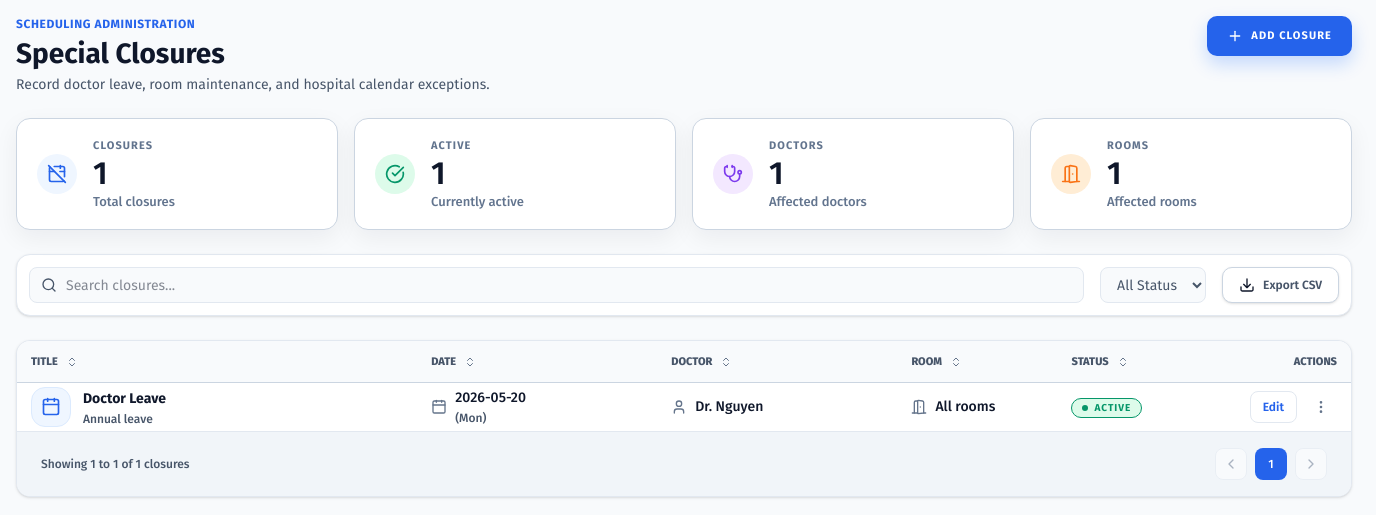
Scenario: AdminSpecialClosuresPage › filters closures by search text
This screenshot has width=1376, height=515.
Expected: the text "Doctor Leave" is shown, [83, 390, 166, 407]
Type "maintenance" into the search field named "search special closures" at (557, 285), box [29, 267, 1084, 303]
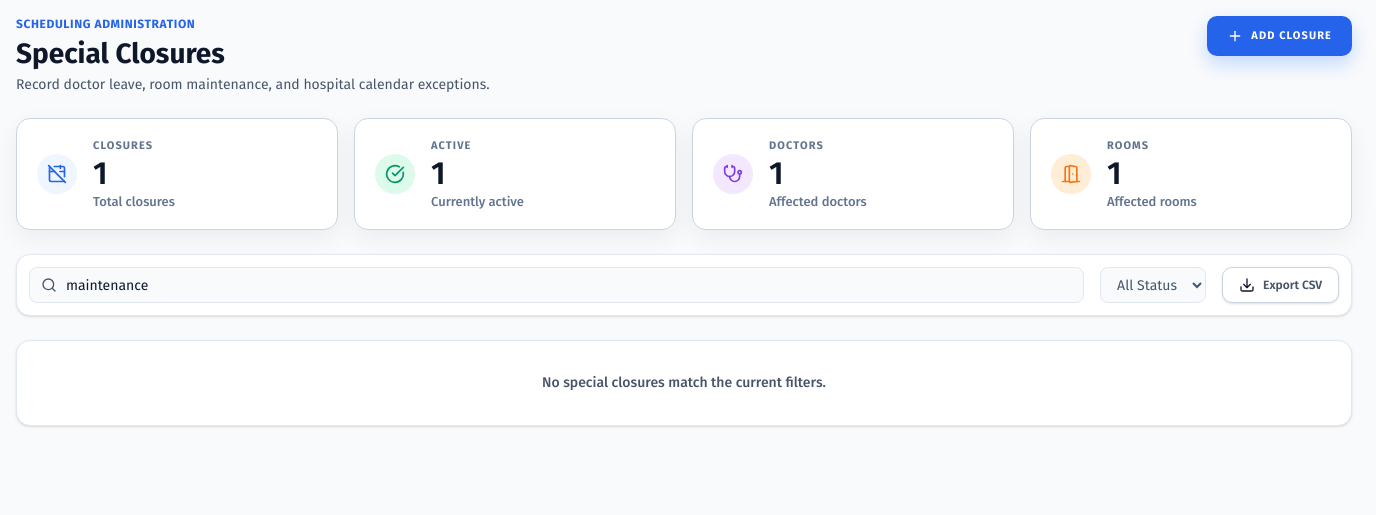
Expected: the text "No special closures match the current filters." is shown, [542, 374, 826, 391]
